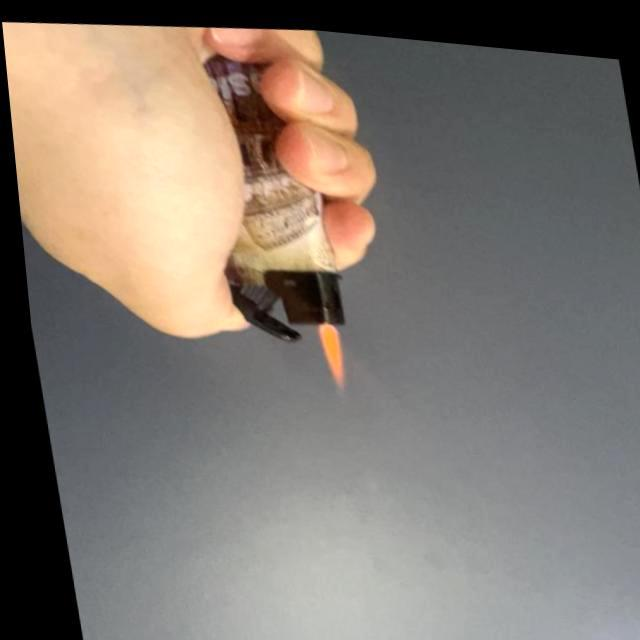fire: (308, 317, 346, 389)
